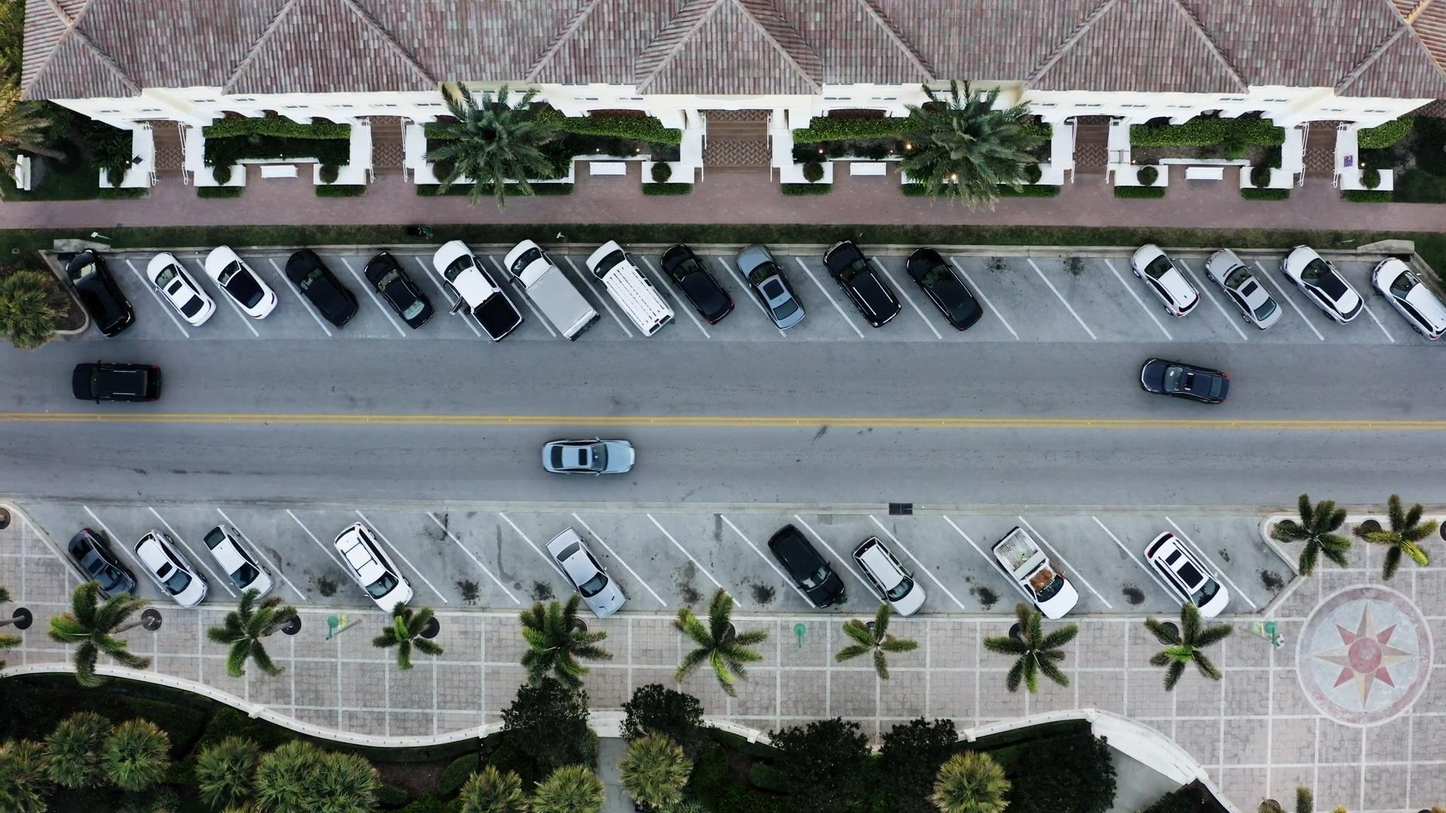car: (94, 342, 176, 430), (557, 423, 638, 511), (1142, 345, 1223, 433)
free: (631, 531, 699, 616), (707, 522, 775, 607), (919, 538, 987, 623), (1071, 526, 1139, 611), (1220, 507, 1288, 592), (272, 525, 340, 610), (411, 529, 479, 614), (477, 531, 545, 616), (995, 258, 1063, 342), (1066, 258, 1136, 335)
occupied: (434, 239, 526, 342), (586, 241, 671, 336), (994, 527, 1075, 620), (1144, 531, 1230, 616), (547, 525, 628, 614), (337, 524, 419, 611), (743, 236, 824, 324), (822, 240, 901, 329), (1280, 244, 1367, 324), (769, 524, 845, 609), (64, 249, 137, 336), (1204, 249, 1282, 330), (1370, 258, 1446, 340), (659, 244, 733, 327), (905, 248, 979, 330), (283, 248, 358, 328), (133, 531, 210, 608), (363, 250, 437, 330), (146, 251, 218, 327), (202, 524, 273, 600), (1130, 243, 1201, 319), (68, 528, 138, 599), (849, 557, 939, 604), (201, 263, 293, 304), (502, 291, 598, 328)
